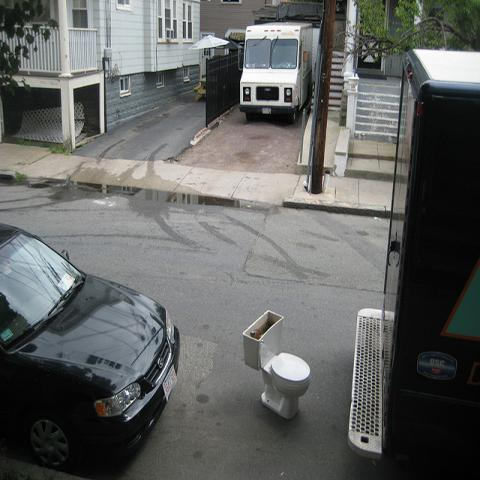car: (1, 223, 180, 474)
truck: (346, 43, 479, 474), (239, 23, 312, 120)
